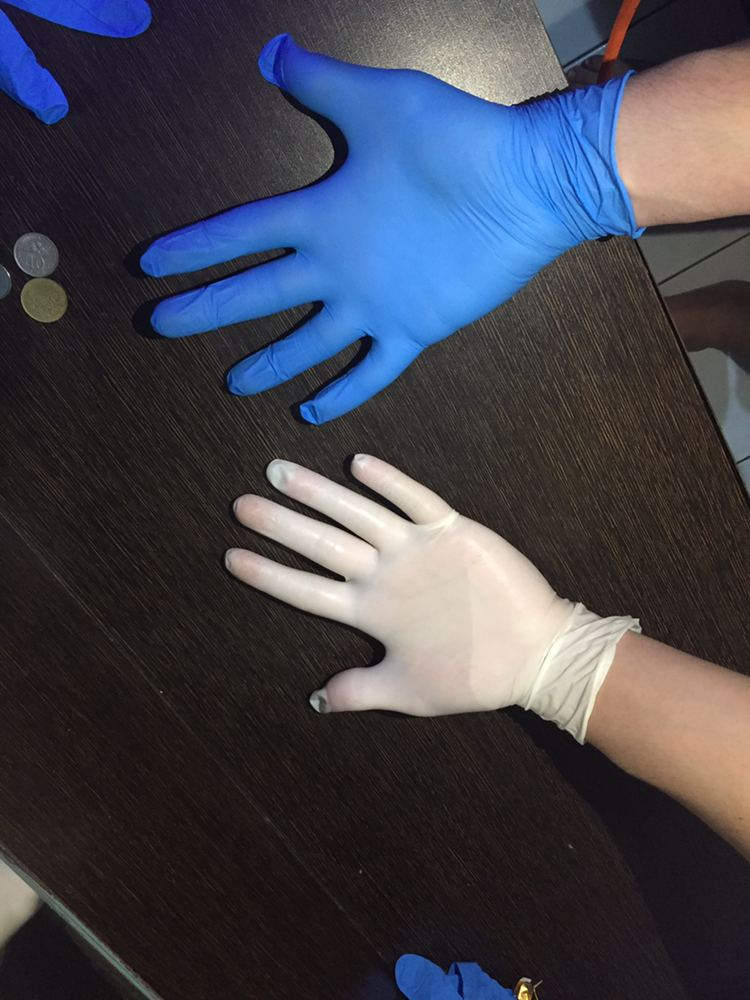glove: (120, 19, 582, 443), (182, 422, 542, 777)
